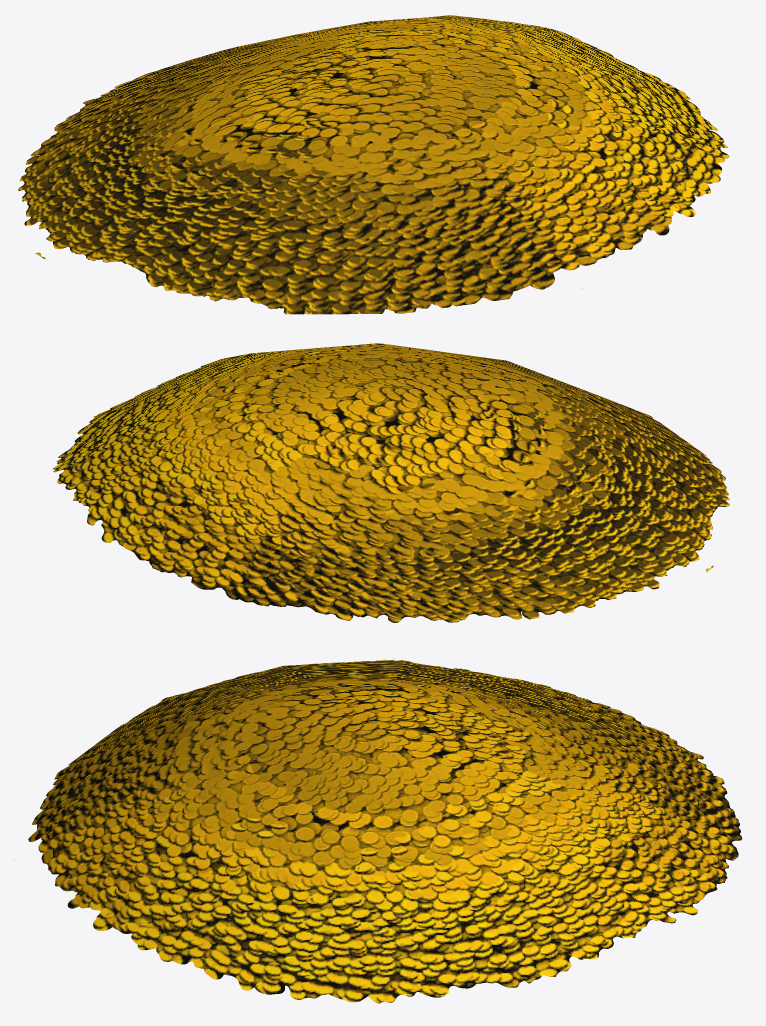
Rendered from INST_SM_GOLDPILE_MEDIUMB.fbx.
3 views of the same model, one above another, from view 1: azimuth 30°, elevation 25°; view 2: azimuth 150°, elevation 25°; view 3: azimuth 270°, elevation 25° (orthographic). The views are drawn at different scales.
Parts seen in each view (by area): view 1: INST_SM_GOLDPILE_MEDIUMB; view 2: INST_SM_GOLDPILE_MEDIUMB; view 3: INST_SM_GOLDPILE_MEDIUMB.
Boxes of the visible parts, x1,y1,x2,y2 form: INST_SM_GOLDPILE_MEDIUMB: (18,15,729,314); INST_SM_GOLDPILE_MEDIUMB: (53,343,729,622); INST_SM_GOLDPILE_MEDIUMB: (14,658,742,1003).
Bounding box in the file's own units: 96250 × 13958 × 85000.
Materials: 1 (1 with a texture image).
